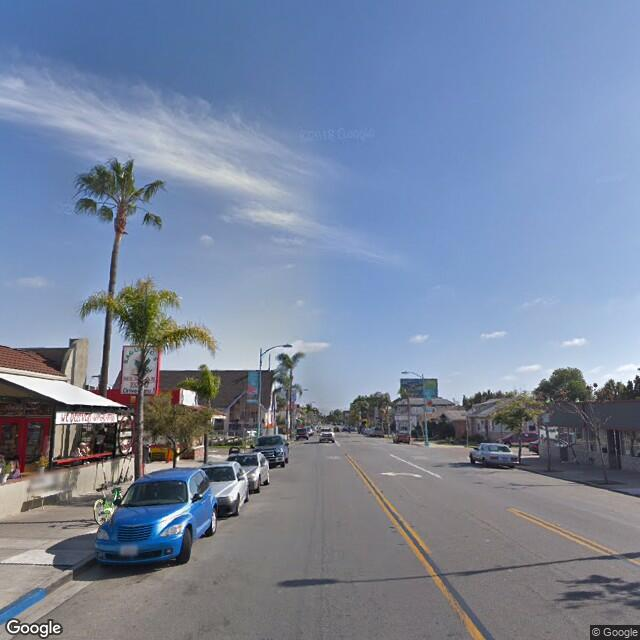road line: (534, 518, 607, 564), (374, 484, 423, 531), (397, 456, 425, 472)
